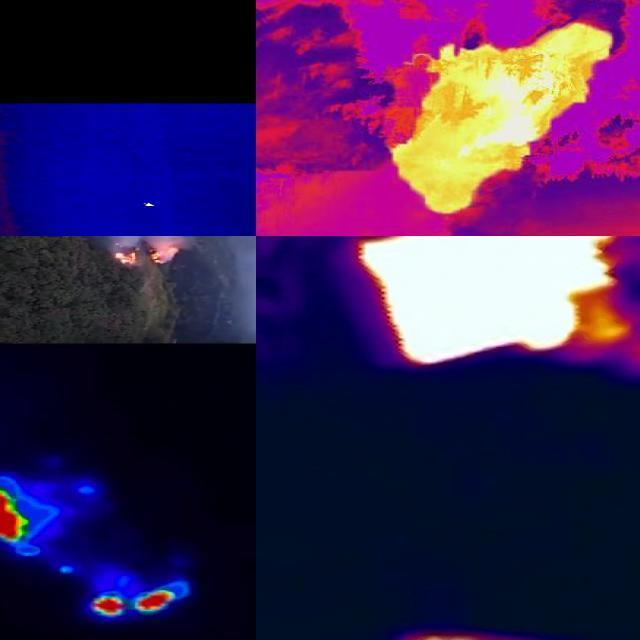fire: (391, 19, 617, 217), (357, 237, 622, 366), (88, 588, 180, 618), (1, 487, 27, 543)
